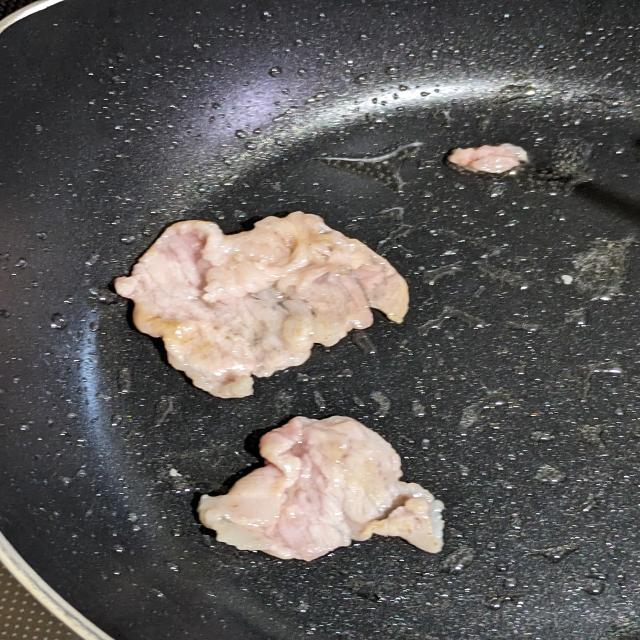OK cooked pork,: (114, 194, 429, 406), (182, 403, 459, 570)
